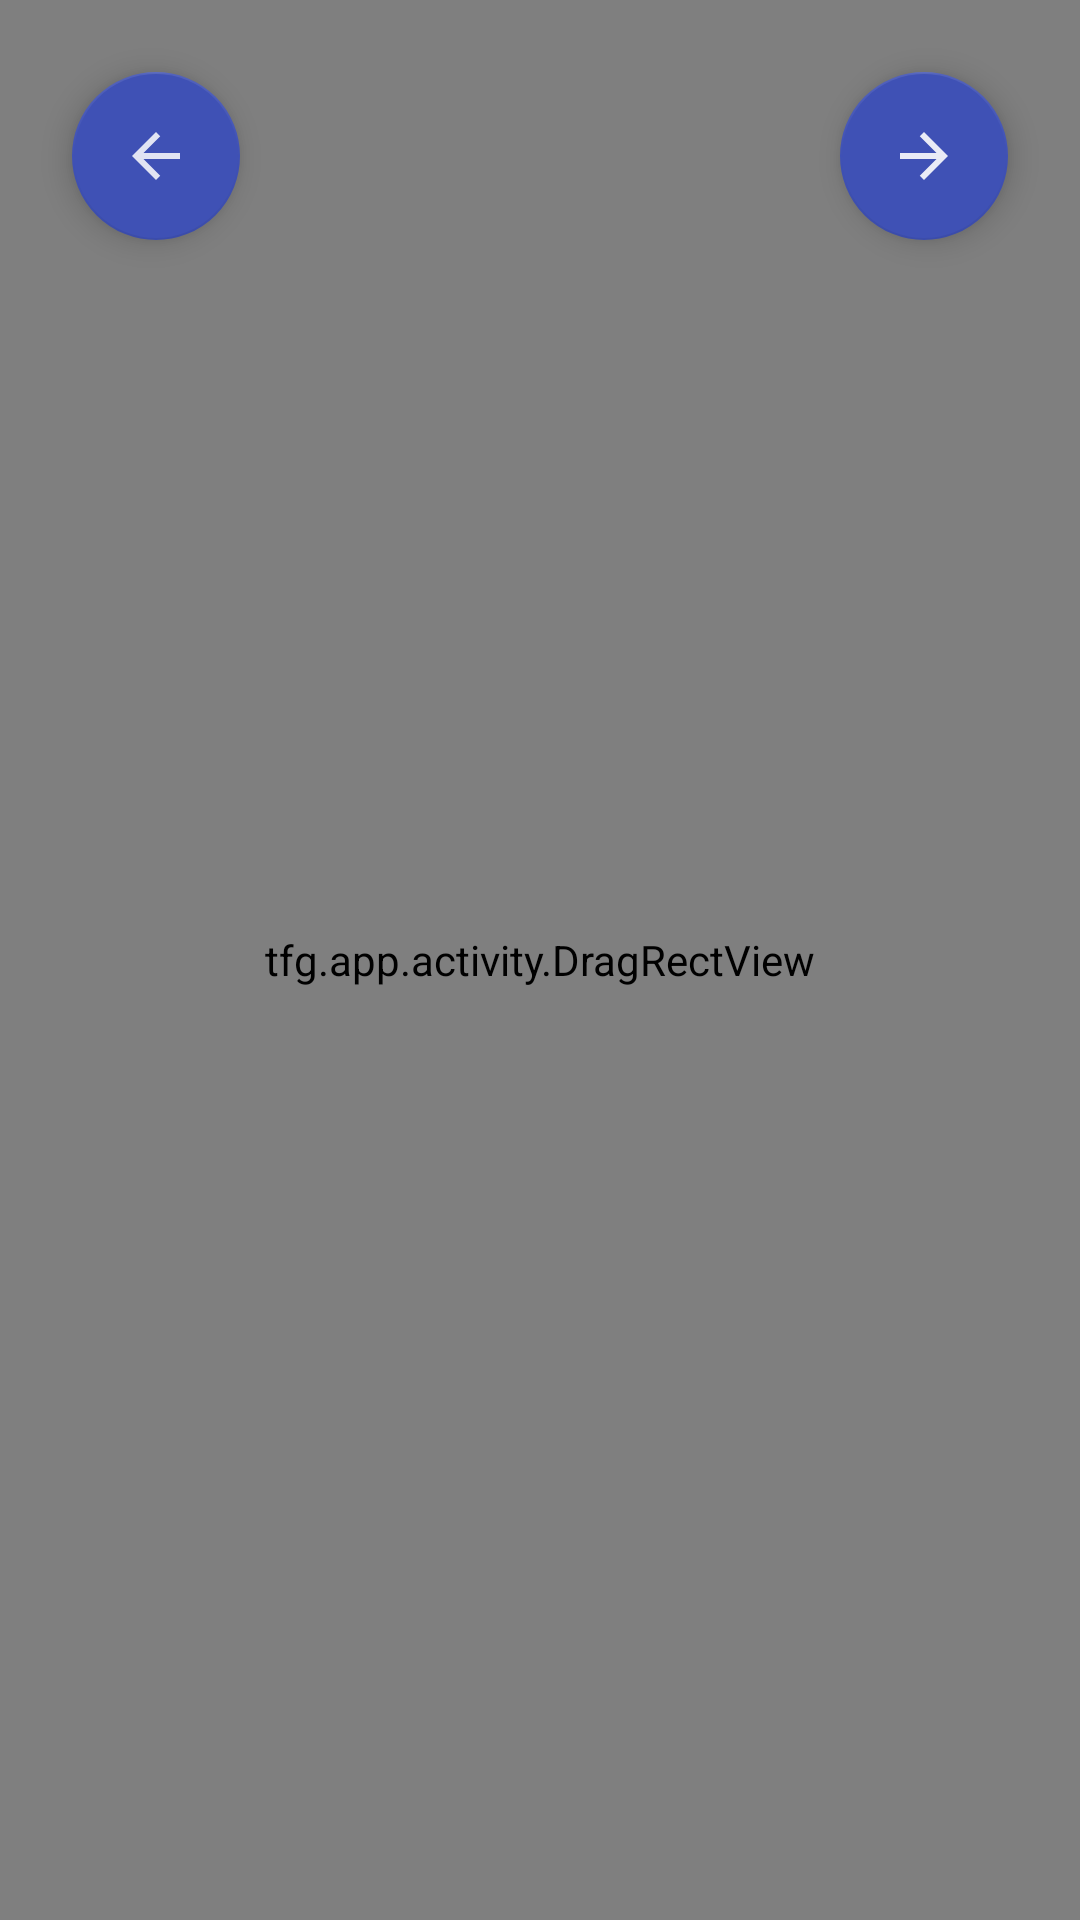

Where icons sit on this 1080w x 1920h app screen, as (x1, y1, x2, y2):
back: (72, 72, 240, 240)
next: (840, 72, 1008, 240)
